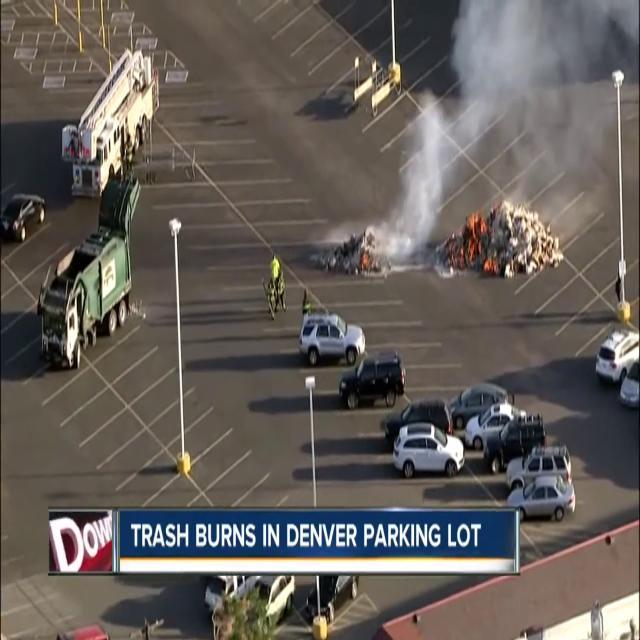Smoke: (368, 0, 614, 271)
